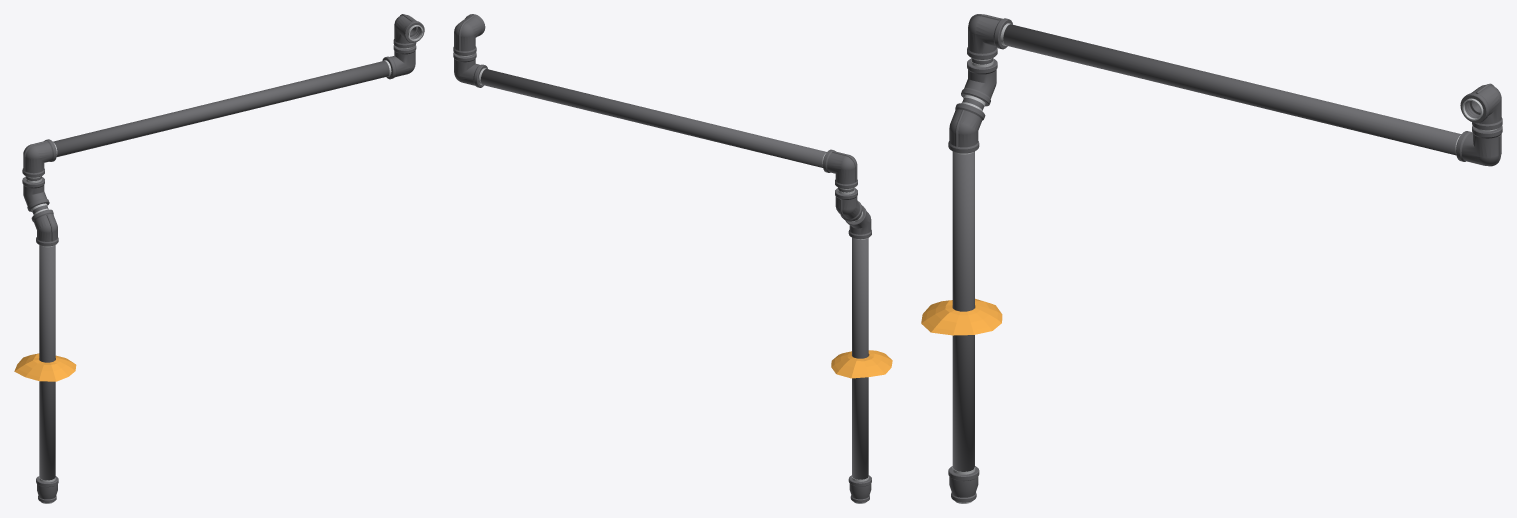
File: pipes_gas__hvac-split_furnace_92+split_furnace_cond96+split_furnace_98.glb
The picture shows the model from 3 angles, left to right: view 1: azimuth 30°, elevation 25°; view 2: azimuth 150°, elevation 25°; view 3: azimuth 330°, elevation 25°; orthographic projection. The views are drawn at different scales.
Parts seen in each view (by area): view 1: pipe_gas_drop_furnace_90, firestop_pipe_gas_drop_furnace_90, fit_elbow_pipe_gas_drop_furnace_90_2, fit_elbow_pipe_gas_drop_furnace_90, fit_elbow_pipe_gas_drop_furnace_90_4, fit_elbow_pipe_gas_drop_furnace_90_1, fit_elbow_pipe_gas_drop_furnace_90_3, fit_bushing_pipe_gas_drop_furnace_90; view 2: pipe_gas_drop_furnace_90, firestop_pipe_gas_drop_furnace_90, fit_elbow_pipe_gas_drop_furnace_90_2, fit_elbow_pipe_gas_drop_furnace_90, fit_elbow_pipe_gas_drop_furnace_90_1, fit_elbow_pipe_gas_drop_furnace_90_3, fit_elbow_pipe_gas_drop_furnace_90_4, fit_bushing_pipe_gas_drop_furnace_90; view 3: pipe_gas_drop_furnace_90, firestop_pipe_gas_drop_furnace_90, fit_elbow_pipe_gas_drop_furnace_90_2, fit_elbow_pipe_gas_drop_furnace_90, fit_elbow_pipe_gas_drop_furnace_90_1, fit_elbow_pipe_gas_drop_furnace_90_4, fit_elbow_pipe_gas_drop_furnace_90_3, fit_bushing_pipe_gas_drop_furnace_90.
Part boxes in pixels (left/top/right/bottom): pipe_gas_drop_furnace_90: left=25, top=61, right=389, bottom=480; firestop_pipe_gas_drop_furnace_90: left=14, top=353, right=76, bottom=381; fit_elbow_pipe_gas_drop_furnace_90_2: left=22, top=139, right=57, bottom=178; fit_elbow_pipe_gas_drop_furnace_90: left=393, top=14, right=424, bottom=48; fit_elbow_pipe_gas_drop_furnace_90_4: left=31, top=208, right=58, bottom=247; fit_elbow_pipe_gas_drop_furnace_90_1: left=382, top=45, right=416, bottom=79; fit_elbow_pipe_gas_drop_furnace_90_3: left=22, top=177, right=49, bottom=211; fit_bushing_pipe_gas_drop_furnace_90: left=36, top=476, right=58, bottom=503; pipe_gas_drop_furnace_90: left=480, top=69, right=868, bottom=479; firestop_pipe_gas_drop_furnace_90: left=831, top=350, right=892, bottom=378; fit_elbow_pipe_gas_drop_furnace_90_2: left=822, top=149, right=857, bottom=189; fit_elbow_pipe_gas_drop_furnace_90: left=453, top=14, right=485, bottom=56; fit_elbow_pipe_gas_drop_furnace_90_1: left=453, top=52, right=487, bottom=87; fit_elbow_pipe_gas_drop_furnace_90_3: left=835, top=188, right=862, bottom=221; fit_elbow_pipe_gas_drop_furnace_90_4: left=845, top=205, right=871, bottom=239; fit_bushing_pipe_gas_drop_furnace_90: left=848, top=475, right=871, bottom=503; pipe_gas_drop_furnace_90: left=952, top=24, right=1461, bottom=471; firestop_pipe_gas_drop_furnace_90: left=921, top=298, right=1002, bottom=335; fit_elbow_pipe_gas_drop_furnace_90_2: left=967, top=14, right=1012, bottom=60; fit_elbow_pipe_gas_drop_furnace_90: left=1460, top=83, right=1502, bottom=131; fit_elbow_pipe_gas_drop_furnace_90_1: left=1455, top=125, right=1502, bottom=166; fit_elbow_pipe_gas_drop_furnace_90_4: left=948, top=102, right=985, bottom=154; fit_elbow_pipe_gas_drop_furnace_90_3: left=961, top=58, right=997, bottom=106; fit_bushing_pipe_gas_drop_furnace_90: left=948, top=466, right=979, bottom=503.
Size of the model in its own units: 0.7737 by 0.696 by 0.1172.
